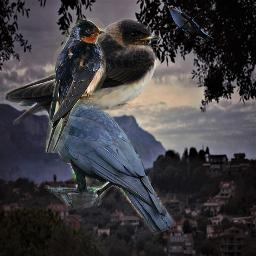Crow: (18, 83, 176, 237)
Cuckoo: (165, 4, 214, 42)
Swallow: (4, 18, 160, 125), (43, 18, 106, 153)
